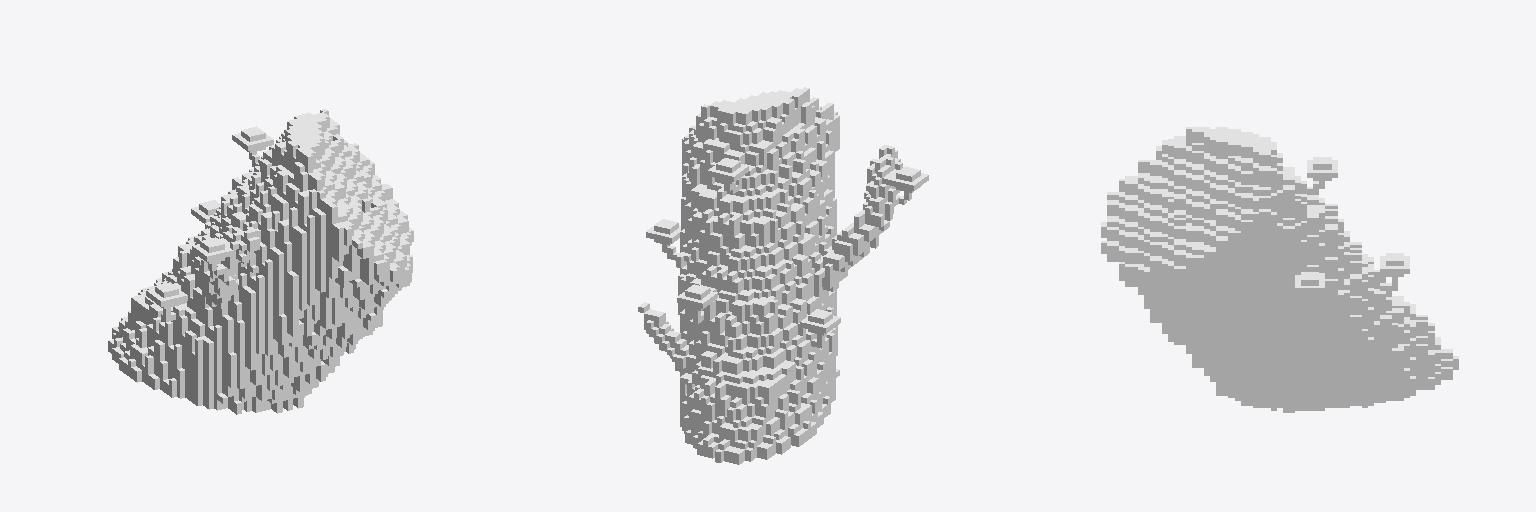
Rendered from MycenaCyanocephala-young.obj.
3 renders of one model, left to right at view 1: azimuth 30°, elevation 25°; view 2: azimuth 150°, elevation 25°; view 3: azimuth 270°, elevation 25°, orthographic.
Parts seen in each view (by area): view 1: object 1; view 2: object 1; view 3: object 1.
Boxes of the visible parts, x1,y1,x2,y2 form: object 1: [108, 109, 413, 414]; object 1: [638, 87, 928, 464]; object 1: [1101, 127, 1458, 412].
Bounding box in the file's own units: 4 × 4.8 × 5.9.